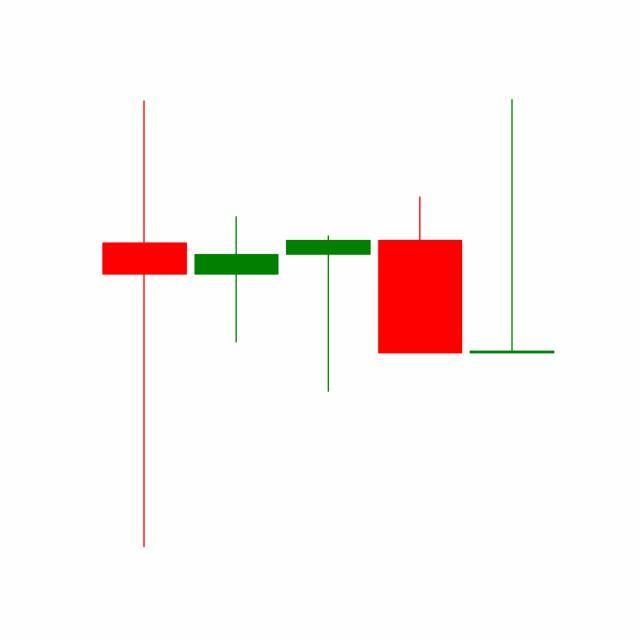Gravestone Doji: (466, 97, 559, 357)
